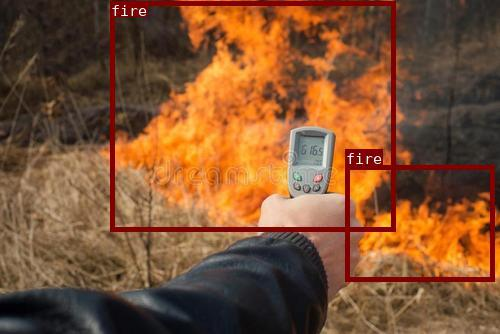fire: (110, 0, 395, 231), (345, 165, 494, 280)
